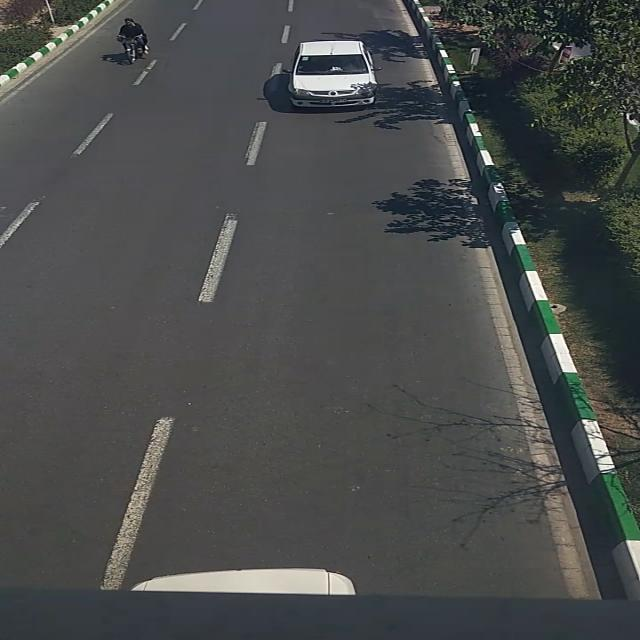car: (285, 40, 379, 110)
motor: (118, 18, 148, 64)
